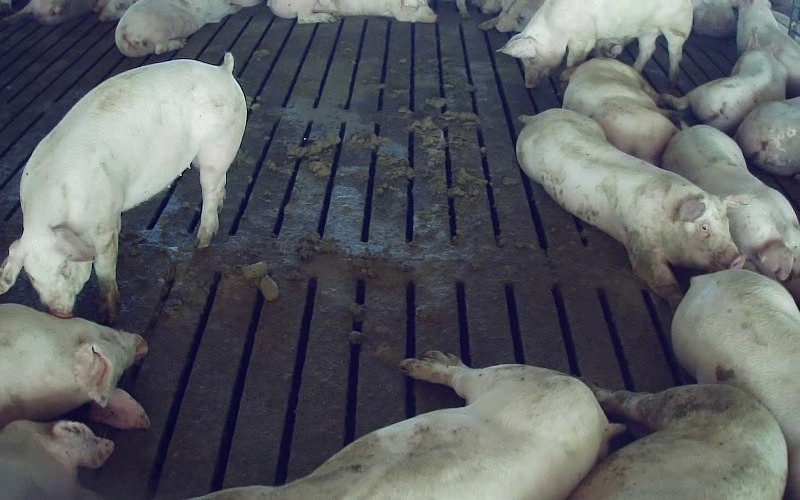pig: (0, 53, 246, 321), (196, 351, 620, 499), (516, 109, 743, 304), (672, 270, 799, 499), (570, 385, 787, 499), (662, 125, 799, 280), (501, 0, 692, 87), (664, 30, 787, 133), (561, 58, 677, 164), (115, 0, 238, 56), (737, 0, 799, 96), (735, 97, 799, 175), (267, 0, 436, 23)
